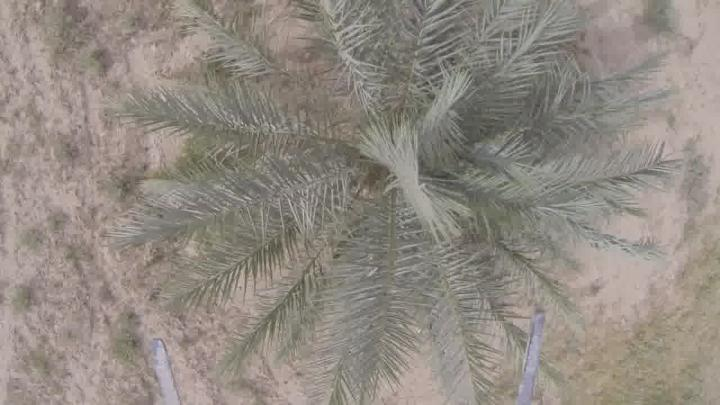Date-Palm-Crown: (237, 16, 527, 304)
